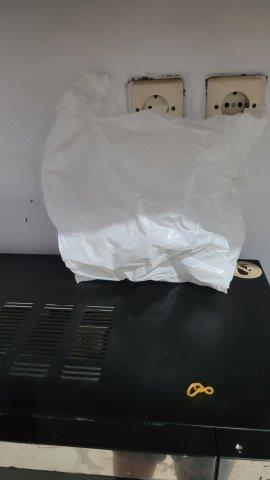plastik: (47, 70, 262, 295)
